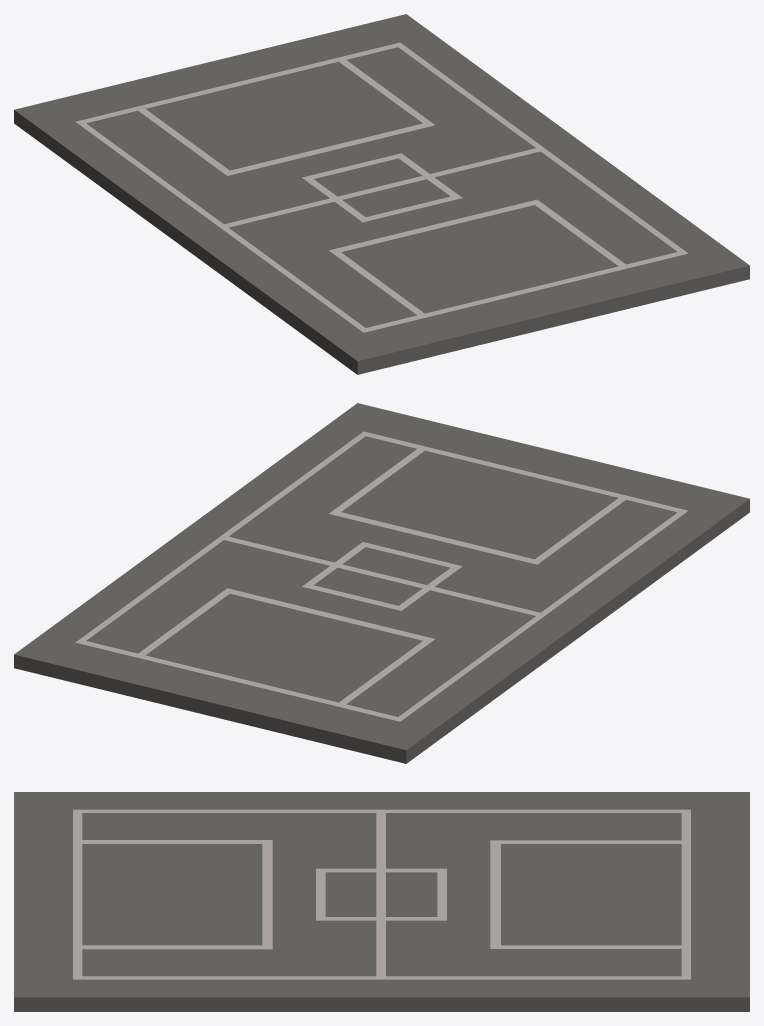
Rendered from SA_Env_Court.gltf.
3 renders of one model, top to bottom at view 1: azimuth 30°, elevation 25°; view 2: azimuth 150°, elevation 25°; view 3: azimuth 270°, elevation 25°, orthographic. The views are drawn at different scales.
Visible parts, largest first — view 1: SA_Env_Court; view 2: SA_Env_Court; view 3: SA_Env_Court.
Part boxes in pixels (x1,y1,x2,y2): SA_Env_Court: (14, 14, 749, 374); SA_Env_Court: (14, 403, 749, 763); SA_Env_Court: (14, 792, 749, 1011).
Bounding box in the file's own units: 30 × 1 × 45.5.
Materials: 1 (1 with a texture image).
